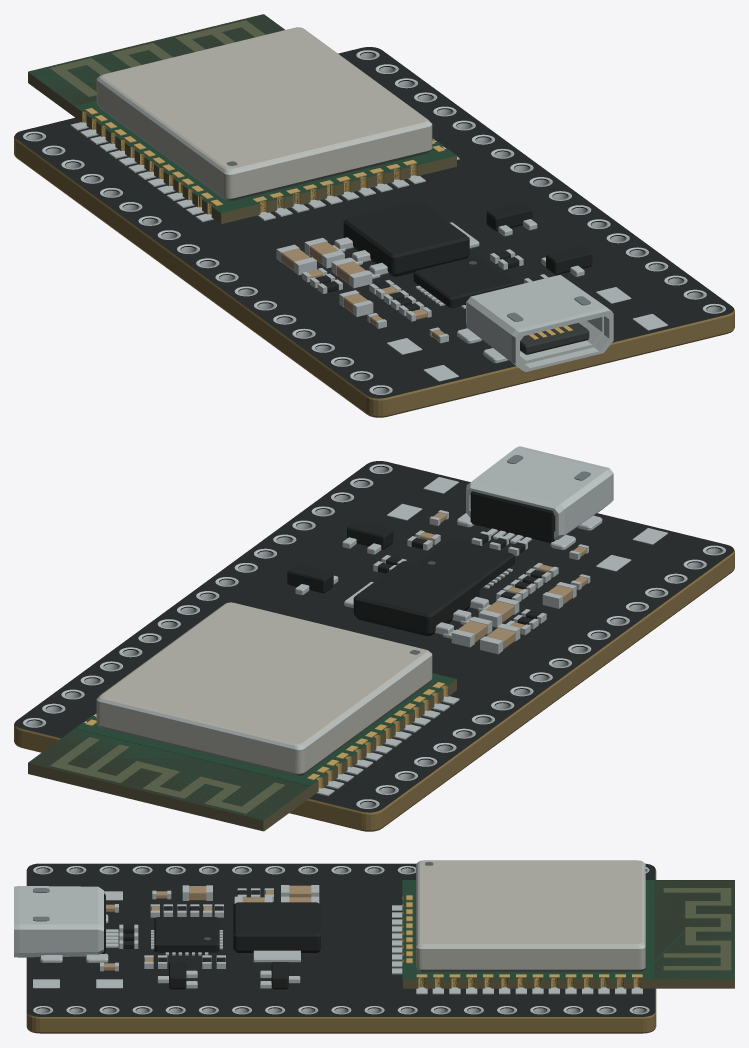
Rendered from esp32-devkitc-v4-detail.glb.
3 renders of one model, top to bottom at view 1: azimuth 30°, elevation 25°; view 2: azimuth 150°, elevation 25°; view 3: azimuth 270°, elevation 25°, orthographic. The views are drawn at different scales.
Visible parts, largest first — view 1: ESP32_PCB_MASK_AND_LAMINATE, ESP32_WROOM_SHIELD, ESP32_WROOM_SUBSTRATE, ESP32_USB_MICRO_B_OPEN_SHELL, ESP32_PASSIVES_AND_AUTO_RESET, ESP32_PCB_PLATED_HEADER_HOLES, ESP32_3V3_REGULATOR, ESP32_WROOM_ANTENNA, ESP32_WROOM_CASTELLATIONS, ESP32_USB_UART_QFN, ESP32_CONTROL_SOLDER_LANDS, ESP32_USB_MICRO_B_TONGUE_AND_PINS; view 2: ESP32_PCB_MASK_AND_LAMINATE, ESP32_WROOM_SHIELD, ESP32_WROOM_SUBSTRATE, ESP32_WROOM_ANTENNA, ESP32_PASSIVES_AND_AUTO_RESET, ESP32_USB_MICRO_B_OPEN_SHELL, ESP32_PCB_PLATED_HEADER_HOLES, ESP32_3V3_REGULATOR, ESP32_WROOM_CASTELLATIONS, ESP32_USB_MICRO_B_TONGUE_AND_PINS, ESP32_USB_UART_QFN, ESP32_CONTROL_SOLDER_LANDS; view 3: ESP32_PCB_MASK_AND_LAMINATE, ESP32_WROOM_SHIELD, ESP32_WROOM_SUBSTRATE, ESP32_WROOM_ANTENNA, ESP32_USB_MICRO_B_OPEN_SHELL, ESP32_PASSIVES_AND_AUTO_RESET, ESP32_3V3_REGULATOR, ESP32_PCB_PLATED_HEADER_HOLES, ESP32_WROOM_CASTELLATIONS, ESP32_USB_UART_QFN, ESP32_CONTROL_SOLDER_LANDS, ESP32_USB_MICRO_B_TONGUE_AND_PINS.
Boxes of the visible parts, <box> form: ESP32_PCB_MASK_AND_LAMINATE: <box>14,47,734,417</box>; ESP32_WROOM_SHIELD: <box>96,27,432,200</box>; ESP32_WROOM_SUBSTRATE: <box>28,14,456,223</box>; ESP32_USB_MICRO_B_OPEN_SHELL: <box>457,275,613,371</box>; ESP32_PASSIVES_AND_AUTO_RESET: <box>276,202,592,343</box>; ESP32_PCB_PLATED_HEADER_HOLES: <box>23,50,725,394</box>; ESP32_3V3_REGULATOR: <box>332,201,479,279</box>; ESP32_WROOM_ANTENNA: <box>29,14,284,105</box>; ESP32_WROOM_CASTELLATIONS: <box>70,108,459,222</box>; ESP32_USB_UART_QFN: <box>413,256,514,308</box>; ESP32_CONTROL_SOLDER_LANDS: <box>387,287,667,381</box>; ESP32_USB_MICRO_B_TONGUE_AND_PINS: <box>520,323,589,354</box>; ESP32_PCB_MASK_AND_LAMINATE: <box>14,461,734,831</box>; ESP32_WROOM_SHIELD: <box>96,602,432,775</box>; ESP32_WROOM_SUBSTRATE: <box>28,673,456,831</box>; ESP32_WROOM_ANTENNA: <box>29,728,309,819</box>; ESP32_PASSIVES_AND_AUTO_RESET: <box>287,510,590,654</box>; ESP32_USB_MICRO_B_OPEN_SHELL: <box>457,446,613,550</box>; ESP32_PCB_PLATED_HEADER_HOLES: <box>23,464,725,808</box>; ESP32_3V3_REGULATOR: <box>344,561,490,638</box>; ESP32_WROOM_CASTELLATIONS: <box>84,682,459,796</box>; ESP32_USB_MICRO_B_TONGUE_AND_PINS: <box>470,491,555,543</box>; ESP32_USB_UART_QFN: <box>417,539,514,589</box>; ESP32_CONTROL_SOLDER_LANDS: <box>387,477,667,571</box>; ESP32_PCB_MASK_AND_LAMINATE: <box>26,863,656,1033</box>; ESP32_WROOM_SHIELD: <box>416,860,645,971</box>; ESP32_WROOM_SUBSTRATE: <box>402,880,734,988</box>; ESP32_WROOM_ANTENNA: <box>654,880,734,978</box>; ESP32_USB_MICRO_B_OPEN_SHELL: <box>14,886,108,962</box>; ESP32_PASSIVES_AND_AUTO_RESET: <box>100,885,319,989</box>; ESP32_3V3_REGULATOR: <box>233,902,320,962</box>; ESP32_PCB_PLATED_HEADER_HOLES: <box>33,866,649,1014</box>; ESP32_WROOM_CASTELLATIONS: <box>392,895,642,994</box>; ESP32_USB_UART_QFN: <box>151,917,222,955</box>; ESP32_CONTROL_SOLDER_LANDS: <box>33,891,122,988</box>; ESP32_USB_MICRO_B_TONGUE_AND_PINS: <box>101,893,118,953</box>.
Bounding box in the file's own units: 2.79 × 0.4835 × 5.53.
